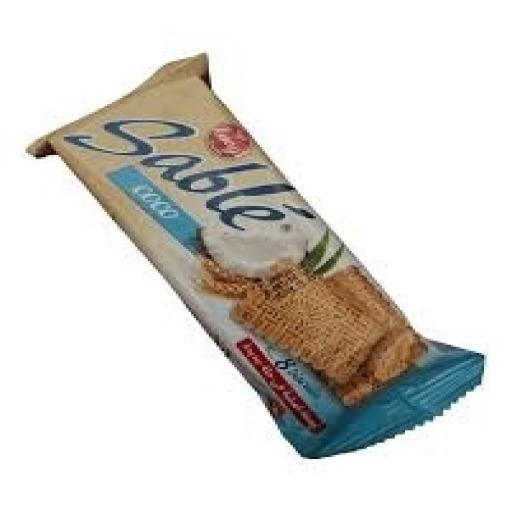sable: (42, 26, 510, 491)
